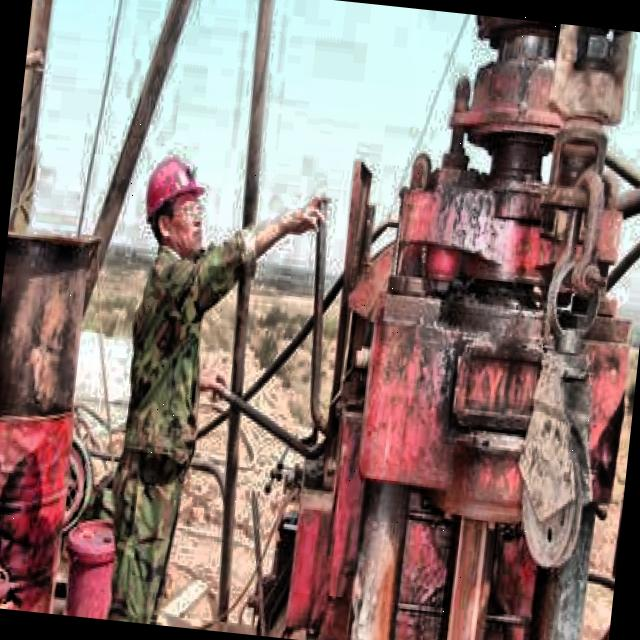helmet: (136, 144, 213, 261)
